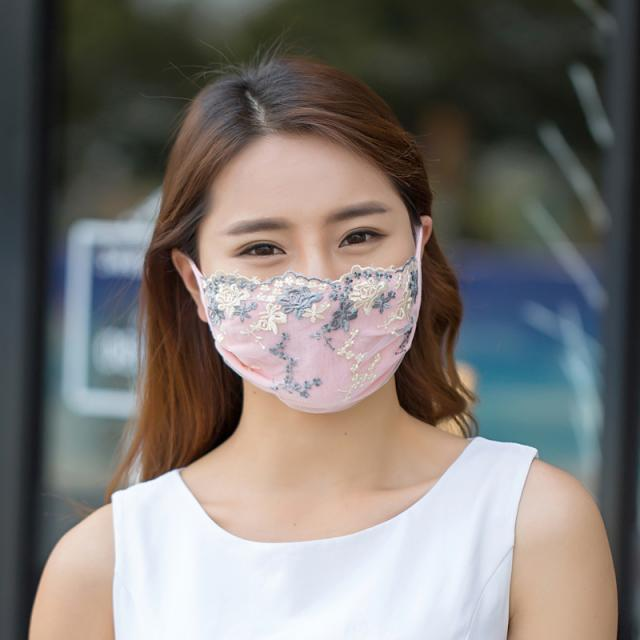mask: (201, 132, 415, 406)
